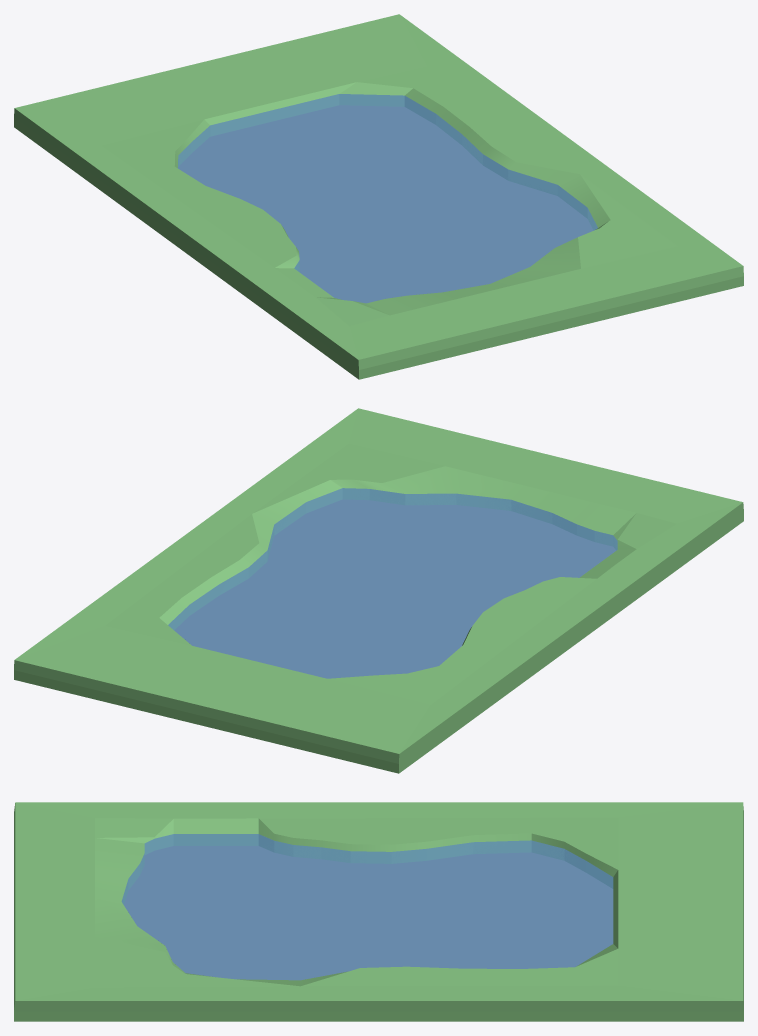
The model's file is ACTUAL_Lake.fbx.
3 renders of one model, top to bottom at view 1: azimuth 30°, elevation 25°; view 2: azimuth 150°, elevation 25°; view 3: azimuth 270°, elevation 25°, orthographic. The views are drawn at different scales.
Visible parts, largest first — view 1: pCube241; view 2: pCube241; view 3: pCube241.
Part boxes in pixels (left/top/right/bottom): pCube241: left=14, top=14, right=743, bottom=379; pCube241: left=14, top=408, right=743, bottom=773; pCube241: left=14, top=802, right=743, bottom=1021.
Bounding box in the file's own units: 28.86 × 1.39 × 44.79.
